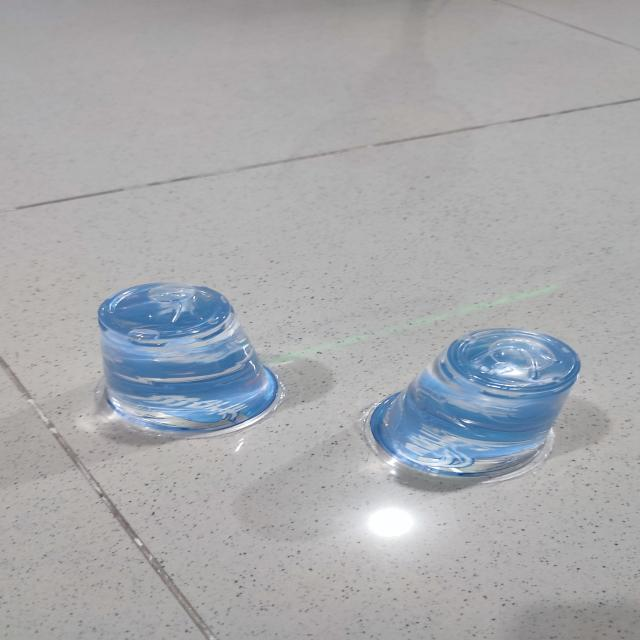air gelas: (86, 271, 295, 455), (359, 321, 587, 476)
